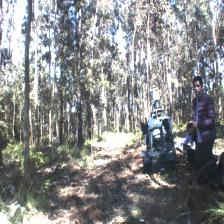trunktrack_idkeyframe: (23, 66, 30, 176)
